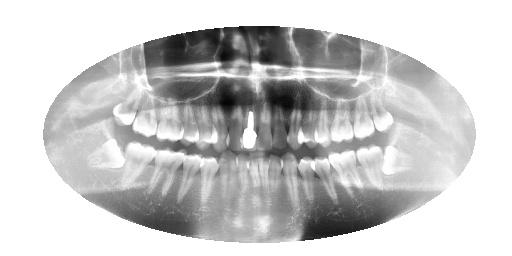Impacted Tooth: (93, 135, 127, 175), (383, 144, 415, 177)
Implant: (241, 105, 259, 155)
